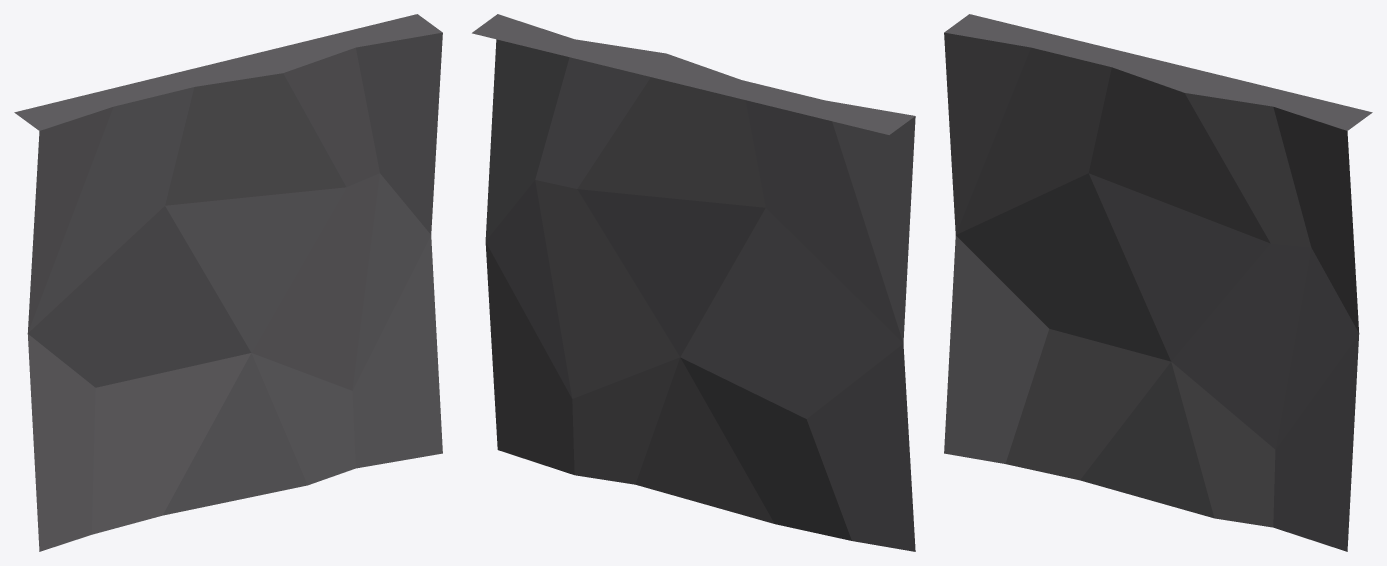
Rendered from mesh_nature_cliff_bottom_02_03.fbx.
3 renders of one model, left to right at view 1: azimuth 30°, elevation 25°; view 2: azimuth 150°, elevation 25°; view 3: azimuth 330°, elevation 25°, orthographic. The views are drawn at different scales.
Parts seen in each view (by area): view 1: mesh_nature_cliff_bottom_02_03; view 2: mesh_nature_cliff_bottom_02_03; view 3: mesh_nature_cliff_bottom_02_03.
Boxes of the visible parts, x1,y1,x2,y2 form: mesh_nature_cliff_bottom_02_03: [14, 14, 442, 551]; mesh_nature_cliff_bottom_02_03: [472, 14, 915, 551]; mesh_nature_cliff_bottom_02_03: [944, 14, 1372, 551].
Size of the model in its own units: 200 by 199 by 23.23.
